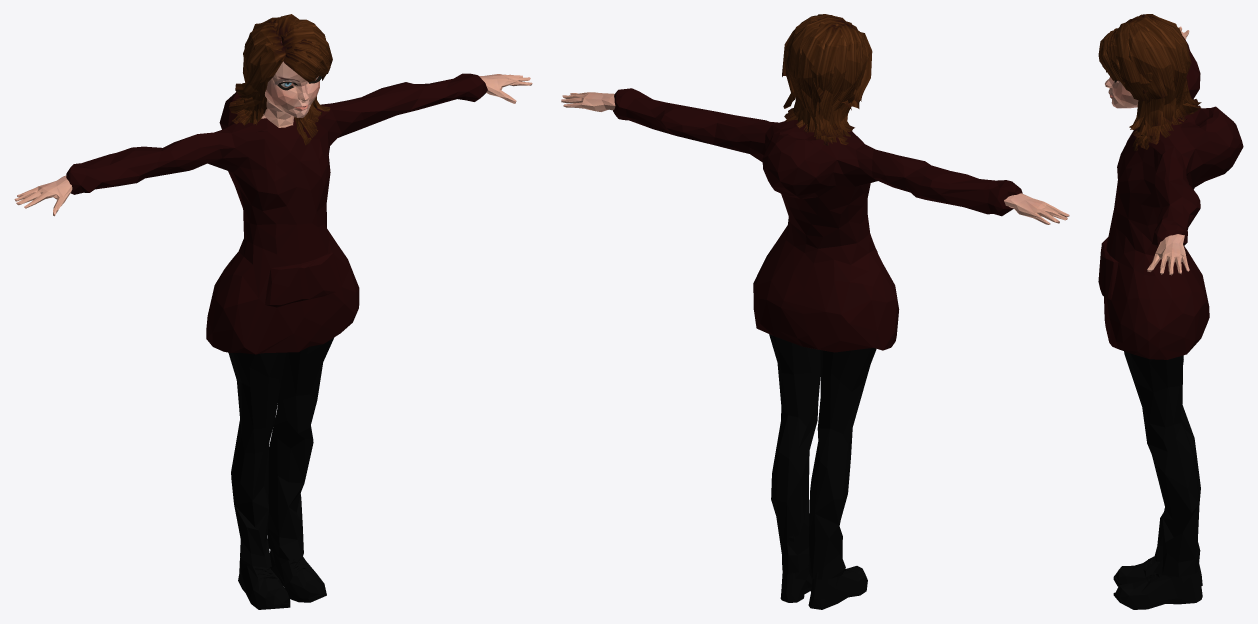
The model's file is NorraCustomMerged.obj.
3 views of the same model, side by side, from view 1: azimuth 30°, elevation 25°; view 2: azimuth 150°, elevation 25°; view 3: azimuth 270°, elevation 25° (orthographic).
Parts seen in each view (by area): view 1: Body; view 2: Body; view 3: Body.
Boxes of the visible parts, box(x1,y1,x2,y2) form: Body: box(14, 14, 532, 609); Body: box(561, 14, 1069, 609); Body: box(1098, 14, 1243, 609).
Size of the model in its own units: 4.67 by 5.05 by 1.15.
Materials: 6 (5 with a texture image).
